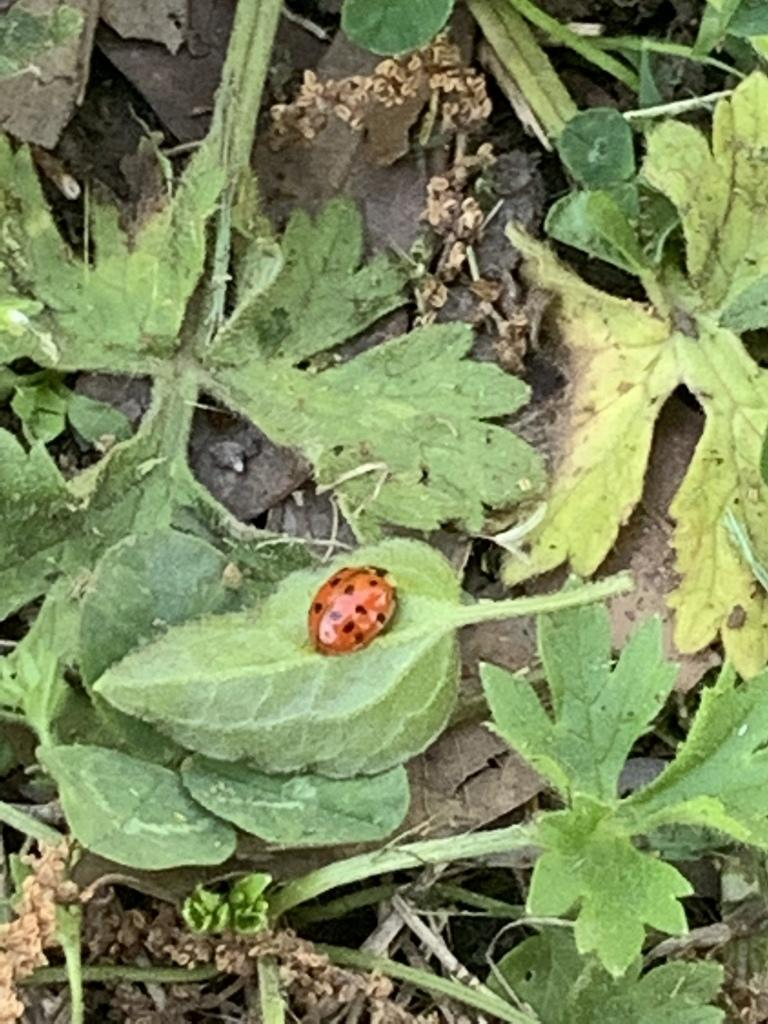ladybug: (307, 564, 403, 656)
